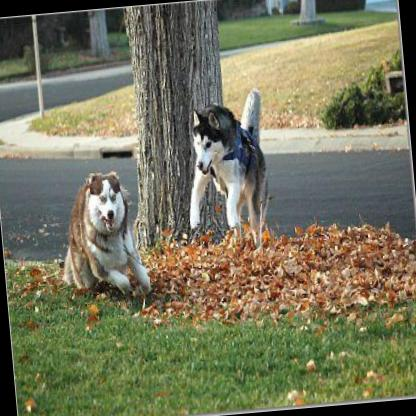Siberian_husky: (50, 164, 152, 307), (177, 96, 271, 248)
